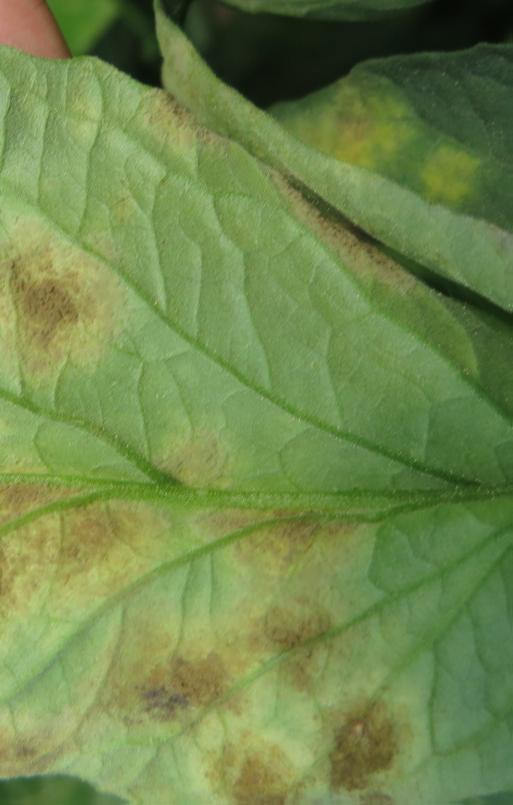Tomato mold leaf: (0, 46, 513, 805)
